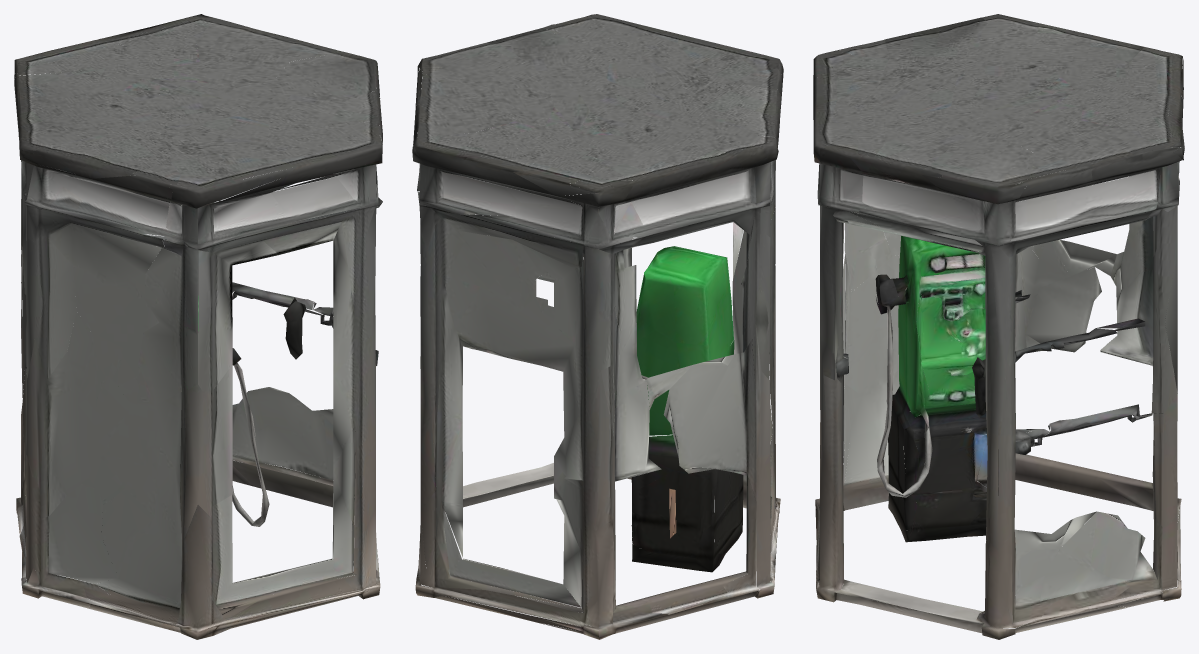
Rendered from phone_booth.glb.
3 views of the same model, side by side, from view 1: azimuth 30°, elevation 25°; view 2: azimuth 150°, elevation 25°; view 3: azimuth 270°, elevation 25° (orthographic).
Visible parts, largest first — view 1: tripo_node_ce8ceccc-1440-4369-9415-dbe64a2b938e; view 2: tripo_node_ce8ceccc-1440-4369-9415-dbe64a2b938e; view 3: tripo_node_ce8ceccc-1440-4369-9415-dbe64a2b938e.
Boxes of the visible parts, box(x1,y1,x2,y2) form: tripo_node_ce8ceccc-1440-4369-9415-dbe64a2b938e: box(14, 14, 382, 639); tripo_node_ce8ceccc-1440-4369-9415-dbe64a2b938e: box(412, 14, 783, 639); tripo_node_ce8ceccc-1440-4369-9415-dbe64a2b938e: box(813, 14, 1184, 639).
Bounding box in the file's own units: 1.74 × 2.1 × 1.56.
Materials: 1 (1 with a texture image).
